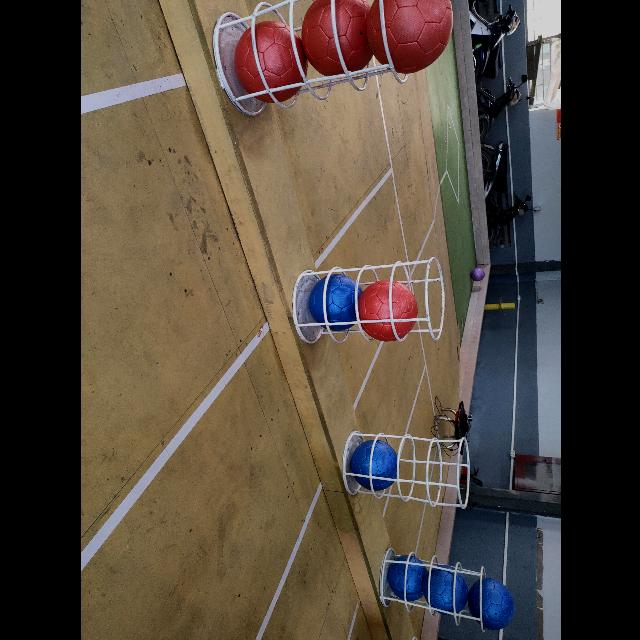B: (306, 278, 360, 332), (347, 442, 399, 492), (466, 578, 514, 630), (422, 565, 468, 615), (386, 555, 428, 601)
R: (366, 0, 449, 76), (302, 0, 372, 78), (232, 24, 302, 102), (359, 280, 417, 338)
